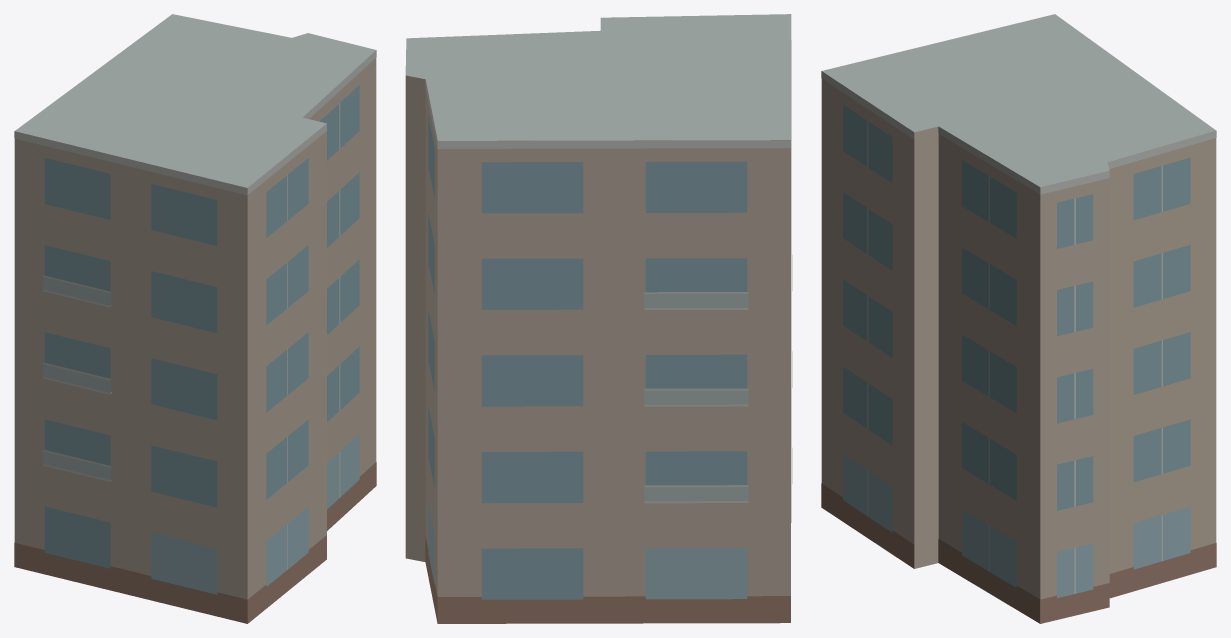
The model's file is survey-upis-32645424.glb.
3 renders of one model, left to right at view 1: azimuth 30°, elevation 25°; view 2: azimuth 150°, elevation 25°; view 3: azimuth 270°, elevation 25°, orthographic. The views are drawn at different scales.
Parts seen in each view (by area): view 1: survey-upis-32645424.tmp; view 2: survey-upis-32645424.tmp; view 3: survey-upis-32645424.tmp.
Part boxes in pixels (bbox=[...]): survey-upis-32645424.tmp: bbox=[14, 14, 376, 623]; survey-upis-32645424.tmp: bbox=[405, 14, 792, 623]; survey-upis-32645424.tmp: bbox=[821, 14, 1216, 623].
Size of the model in its own units: 12.44 by 14.6 by 11.98.
